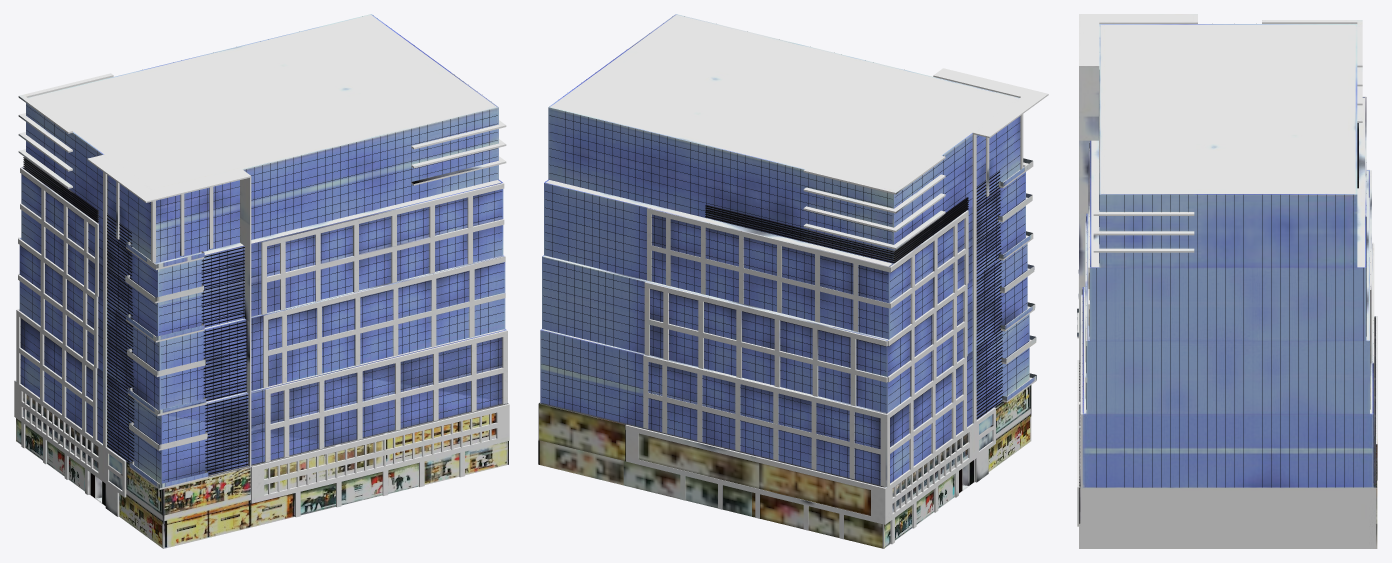
File: mall_exterior_optimised.glb
3 renders of one model, left to right at view 1: azimuth 30°, elevation 25°; view 2: azimuth 150°, elevation 25°; view 3: azimuth 270°, elevation 25°, orthographic.
Parts seen in each view (by area): view 1: part5, part6, part7, part4, part3, part2, part1; view 2: part5, part7, part6, part4, part3, part1, part2; view 3: part5, part6, part4, part3, part2, part7, part1.
Part boxes in pixels (x1=…): part5: x1=21, y1=15, x2=503, y2=336; part6: x1=14, y1=14, x2=509, y2=503; part7: x1=14, y1=105, x2=503, y2=517; part4: x1=19, y1=167, x2=505, y2=410; part3: x1=19, y1=255, x2=506, y2=483; part2: x1=16, y1=329, x2=508, y2=548; part1: x1=18, y1=73, x2=506, y2=489; part5: x1=544, y1=15, x2=1025, y2=339; part7: x1=539, y1=111, x2=1036, y2=548; part6: x1=548, y1=14, x2=1048, y2=523; part4: x1=542, y1=180, x2=1027, y2=412; part3: x1=540, y1=255, x2=1029, y2=485; part1: x1=540, y1=114, x2=1036, y2=487; part2: x1=538, y1=329, x2=1031, y2=548; part5: x1=1090, y1=24, x2=1366, y2=340; part6: x1=1077, y1=14, x2=1375, y2=523; part4: x1=1086, y1=97, x2=1369, y2=414; part3: x1=1082, y1=171, x2=1373, y2=487; part2: x1=1079, y1=244, x2=1377, y2=548; part7: x1=1077, y1=70, x2=1377, y2=526; part1: x1=1077, y1=20, x2=1375, y2=486.
Bounding box in the file's own units: 35.66 × 32.61 × 24.96.
8 materials, 8 textured.
